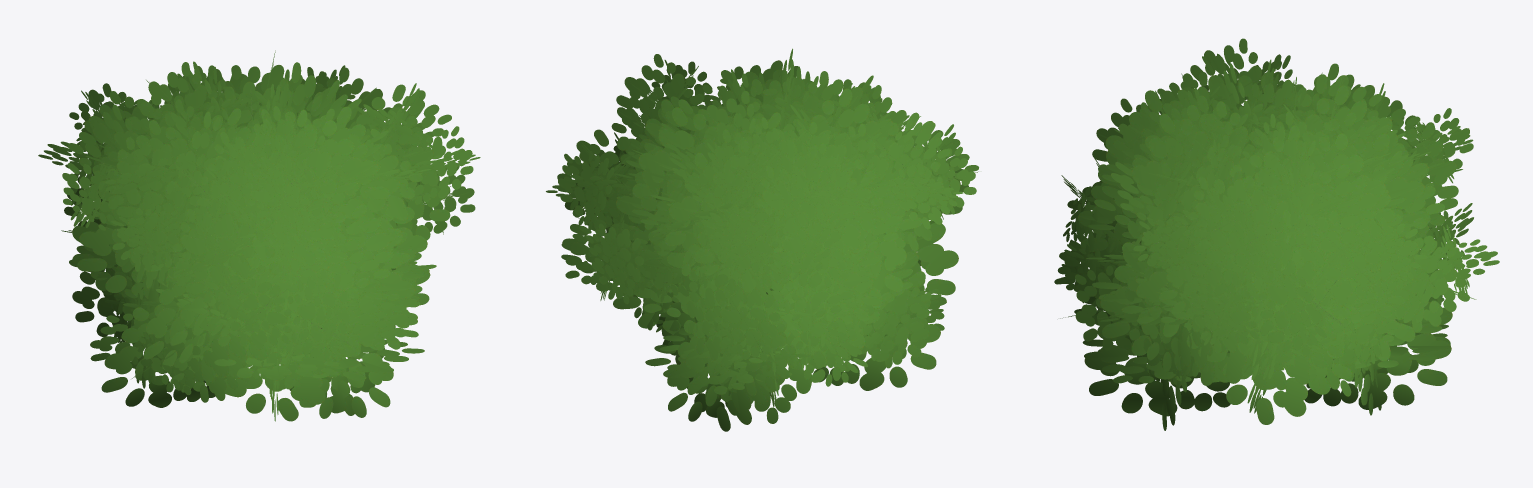
File: Bush_Common.glb
3 views of the same model, side by side, from view 1: azimuth 30°, elevation 25°; view 2: azimuth 150°, elevation 25°; view 3: azimuth 270°, elevation 25° (orthographic). The views are drawn at different scales.
Visible parts, largest first — view 1: Bush_Common; view 2: Bush_Common; view 3: Bush_Common.
Boxes of the visible parts, bbox=[...] form: Bush_Common: bbox=[38, 50, 480, 421]; Bush_Common: bbox=[546, 48, 978, 431]; Bush_Common: bbox=[1054, 38, 1499, 430].
Size of the model in its own units: 2.01 by 1.76 by 1.98.
Materials: 1 (1 with a texture image).
